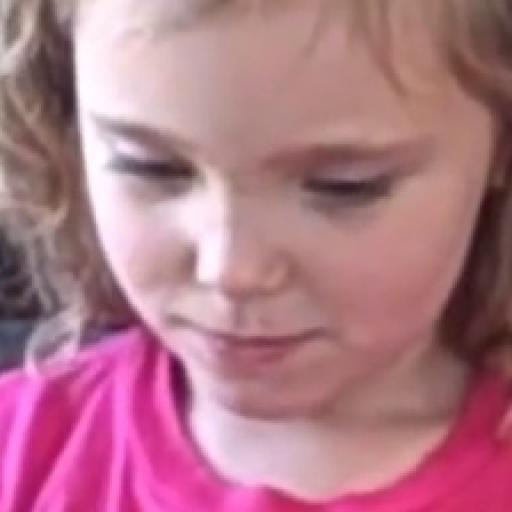Autism: (32, 15, 452, 414)
